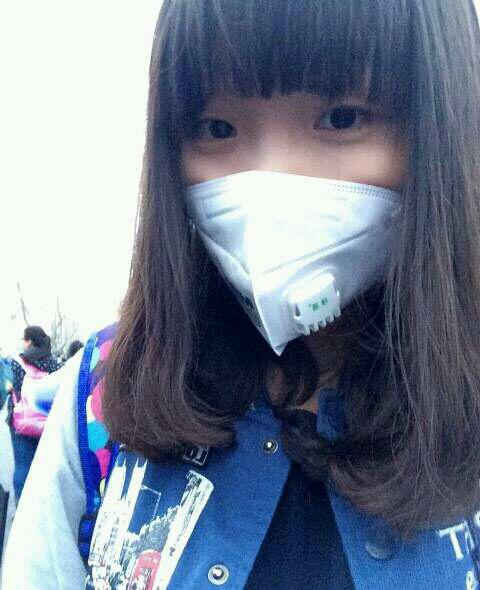OK: (179, 36, 405, 349)
